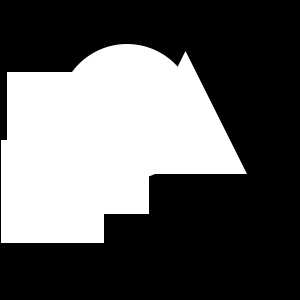circle: (7, 72, 149, 214), (1, 140, 104, 243)
rectangle: (59, 44, 195, 180)
triangle: (124, 51, 247, 174)
